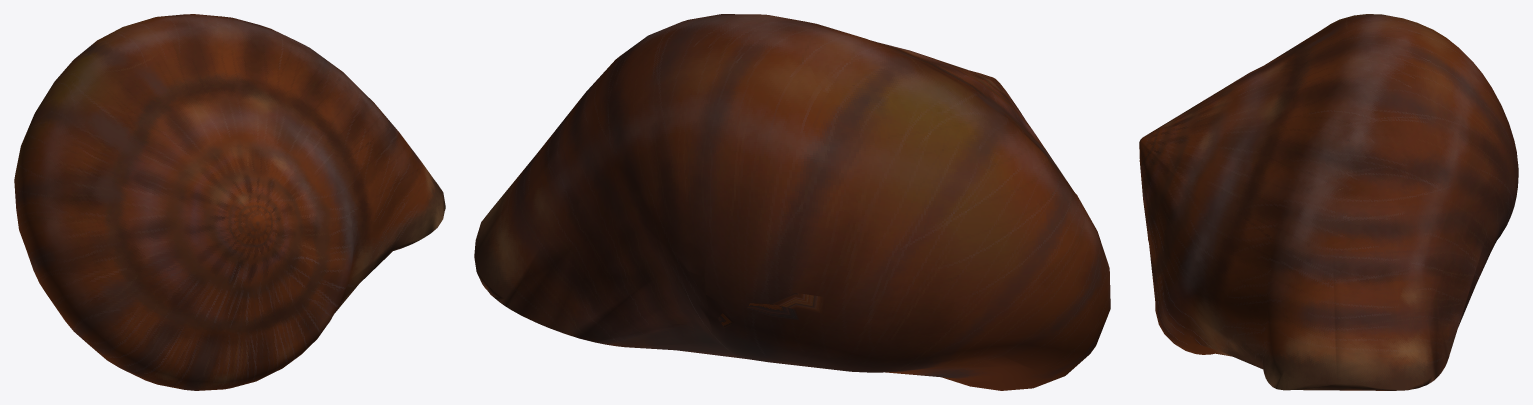
The model's file is snail.glb.
The picture shows the model from 3 angles, left to right: view 1: azimuth 30°, elevation 25°; view 2: azimuth 150°, elevation 25°; view 3: azimuth 270°, elevation 25°; orthographic projection. The views are drawn at different scales.
Visible parts, largest first — view 1: snaillp.005; view 2: snaillp.005; view 3: snaillp.005.
Boxes of the visible parts, x1=… form: snaillp.005: x1=14, y1=14, x2=445, y2=390; snaillp.005: x1=474, y1=14, x2=1110, y2=390; snaillp.005: x1=1139, y1=14, x2=1518, y2=390.
Bounding box in the file's own units: 41.16 × 27.87 × 29.96.
Materials: 1 (1 with a texture image).
